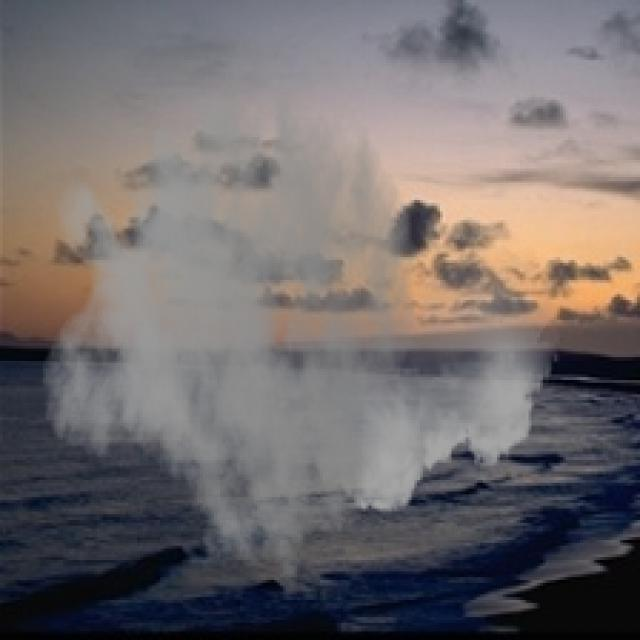Smoke: (40, 28, 560, 583)
